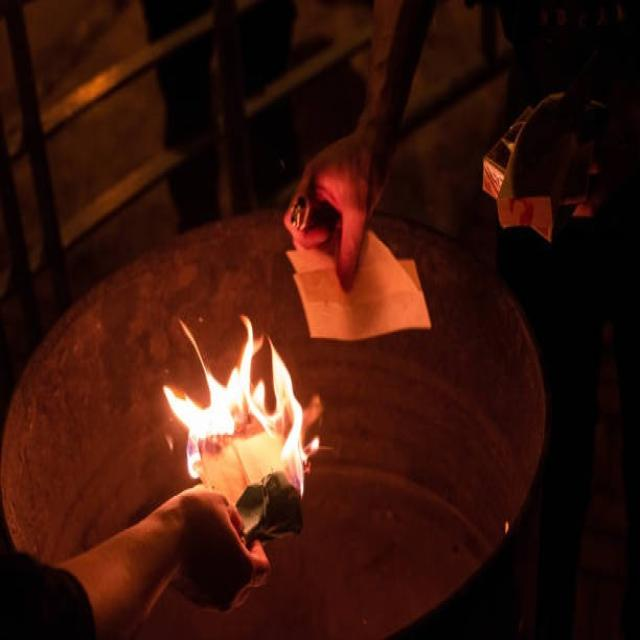fire: (164, 316, 307, 496)
